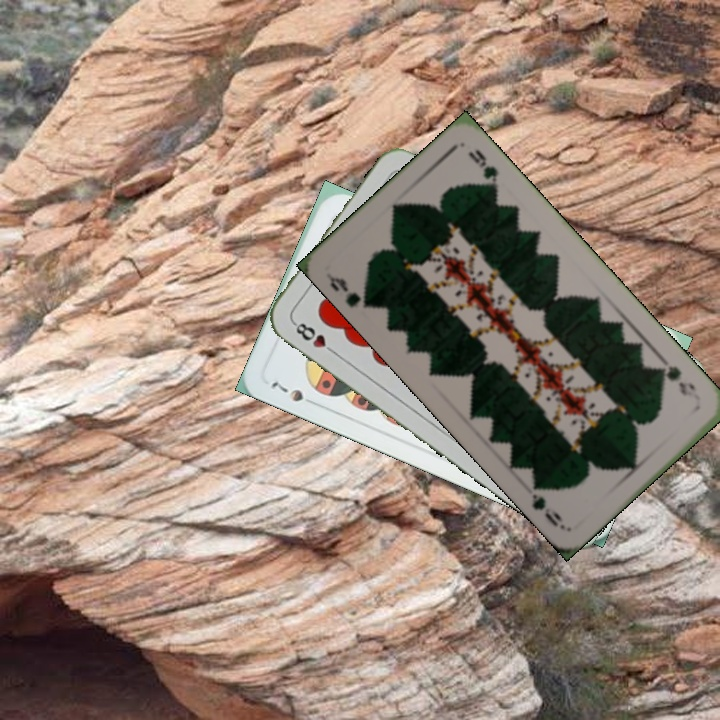G9: (322, 270, 375, 311), (654, 356, 699, 400)
H8: (289, 318, 340, 358)
S7: (266, 375, 320, 407)
